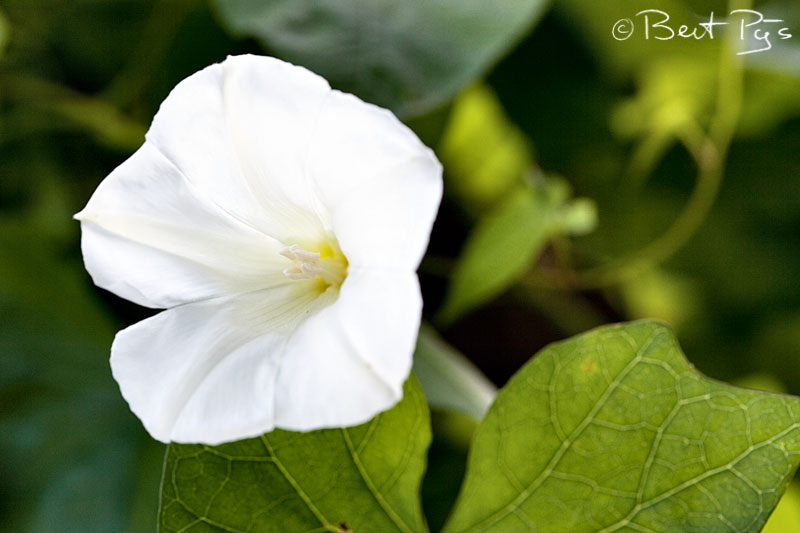haagwinde: (54, 45, 469, 451)
